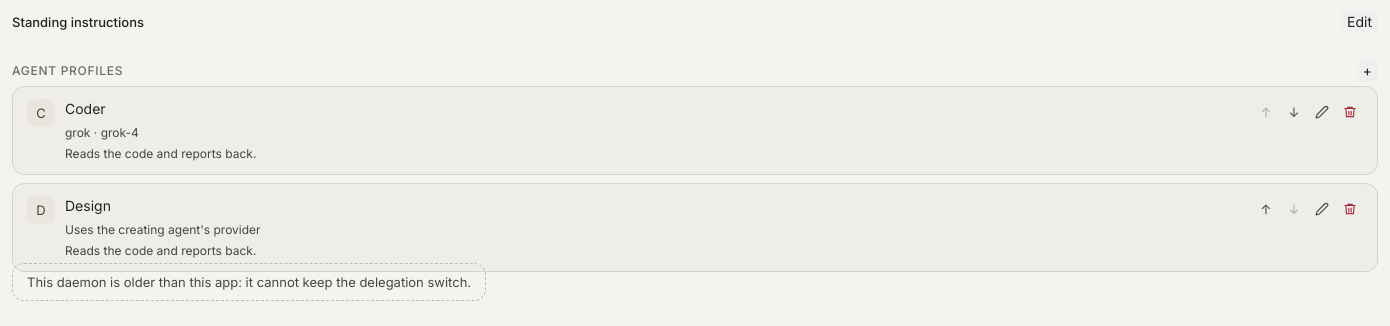
Test: Settings agents panel — profile rows and their actions › says the built-in Design row is turned off, not deleted, when its delete is armed
Click the button named "Delete Design" at [1350, 209], box [1337,196,1363,222]
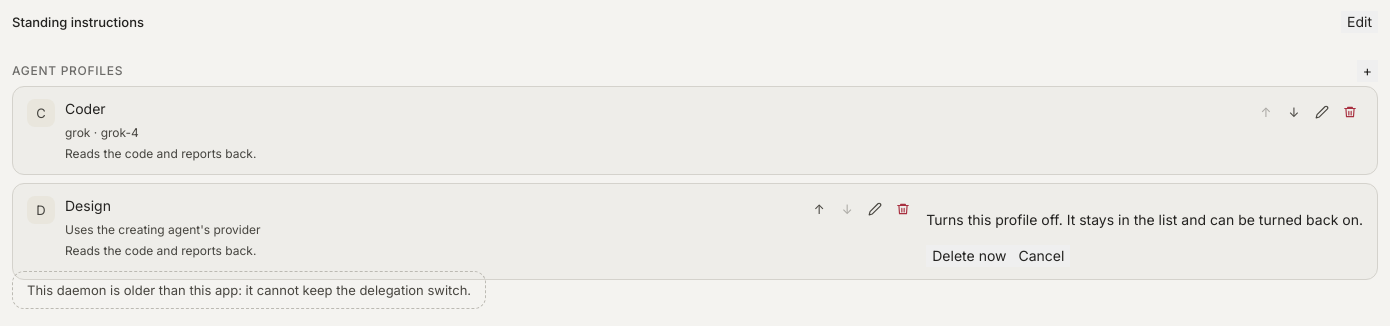
Expected: the text "Deletes this profile" is not shown
Expected: the text "Turns this profile off. It stays in the list and can be turned back on." is shown, [926,210,1363,231]
Click the button named "Delete Coder" at [1350, 112], box [1337,99,1363,125]
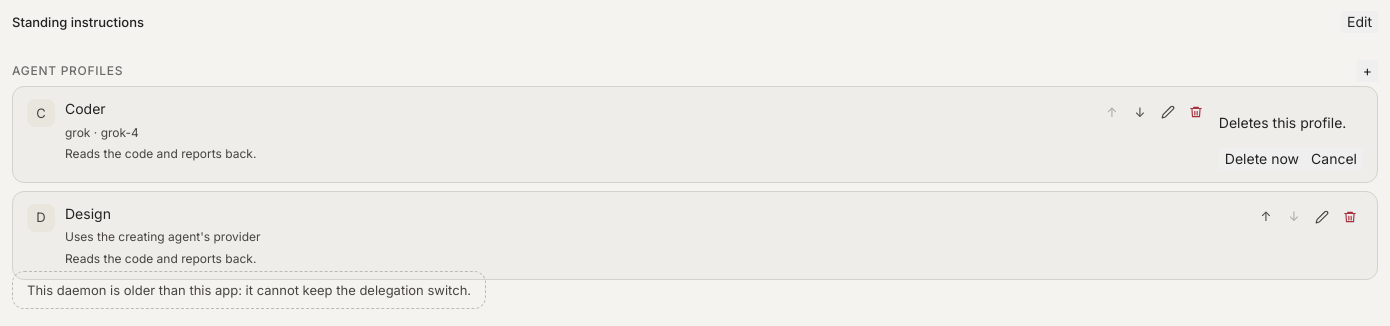
Expected: the text "Deletes this profile" is shown, [1219,114,1346,131]
